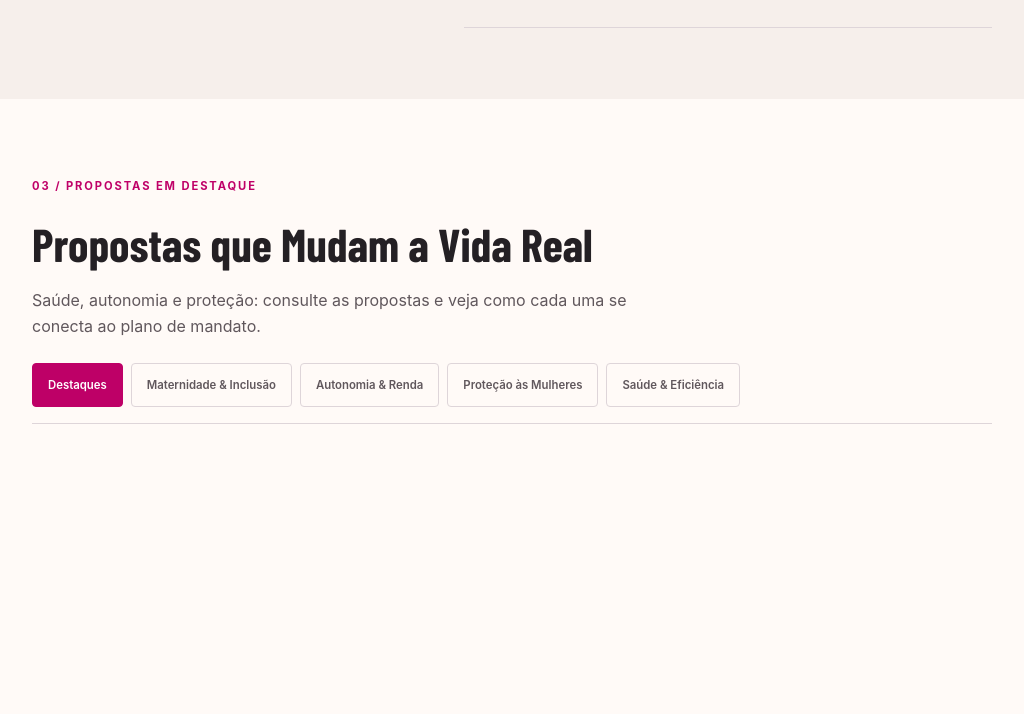
Test case: Visual redesign regressions › limits initial proposal density, filters with JS and links to canonical routes
(page scrolled)
What coordinates should you click on to do the following:
click the button "Saúde & Eficiência"
I would click on:
 (673, 385)
Its box is [606,363,740,407].
(page scrolled)
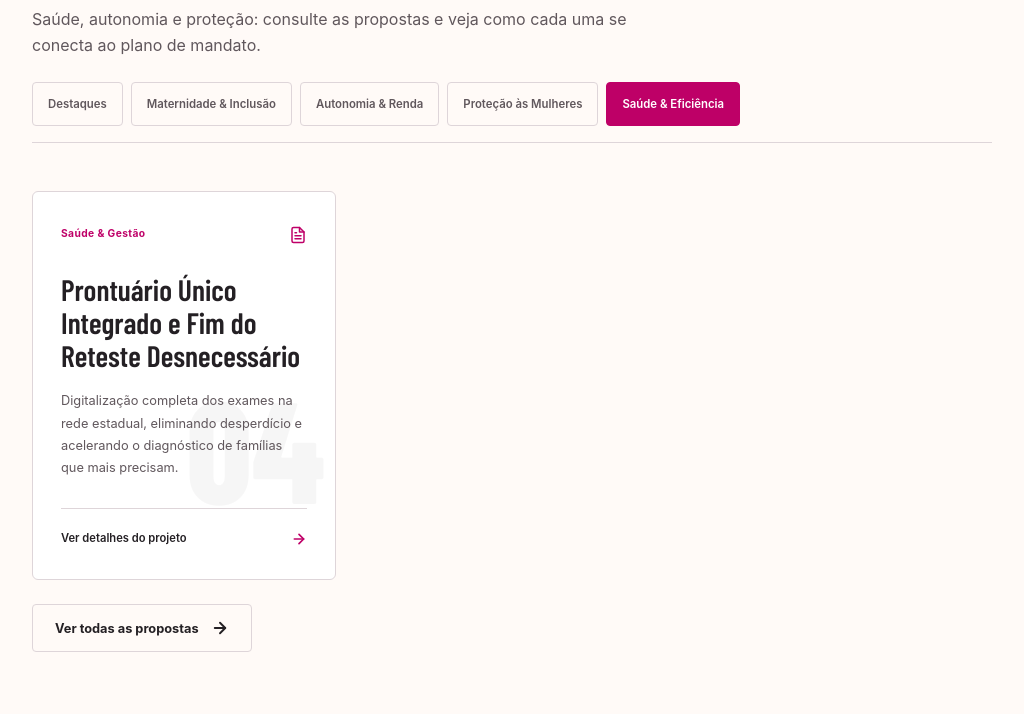
Result: the number of links with class "nikolas-project-card" is 1 at [32,191,336,580]
